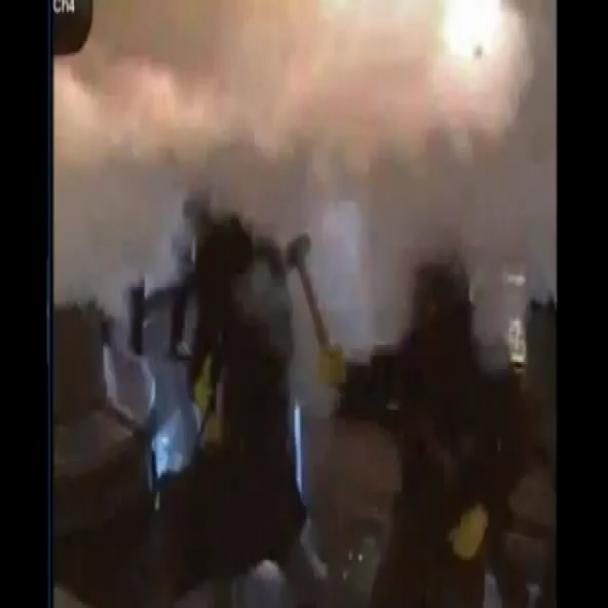smoke: (51, 0, 556, 607)
